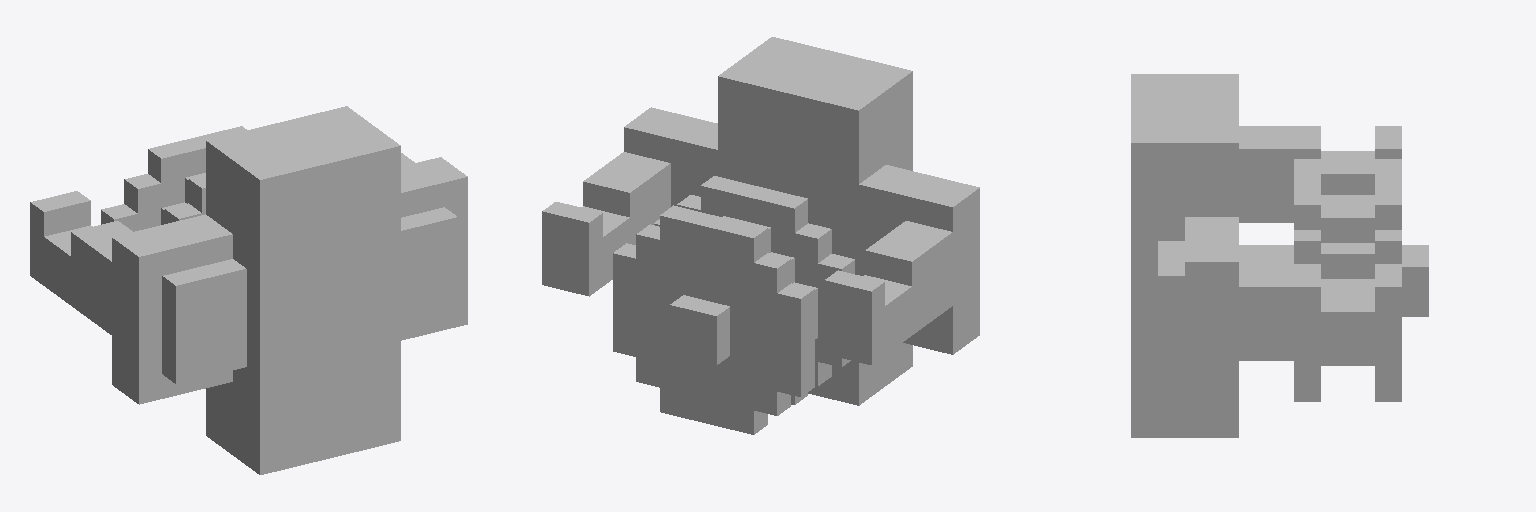
Rendered from chair_lift_wheel_powered.obj.
3 views of the same model, side by side, from view 1: azimuth 30°, elevation 25°; view 2: azimuth 150°, elevation 25°; view 3: azimuth 270°, elevation 25° (orthographic).
Visible parts, largest first — view 1: node_0_0_0.045; view 2: node_0_0_0.045; view 3: node_0_0_0.045.
Boxes of the visible parts, box(x1,y1,x2,y2) form: node_0_0_0.045: box(30, 106, 467, 474); node_0_0_0.045: box(542, 37, 979, 434); node_0_0_0.045: box(1131, 74, 1428, 437).
Bounding box in the file's own units: 0.875 × 0.75 × 0.6875.